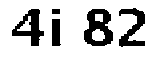2: (117, 6, 152, 52)
4: (10, 4, 46, 50)
8: (81, 8, 115, 52)
i: (50, 7, 65, 49)
